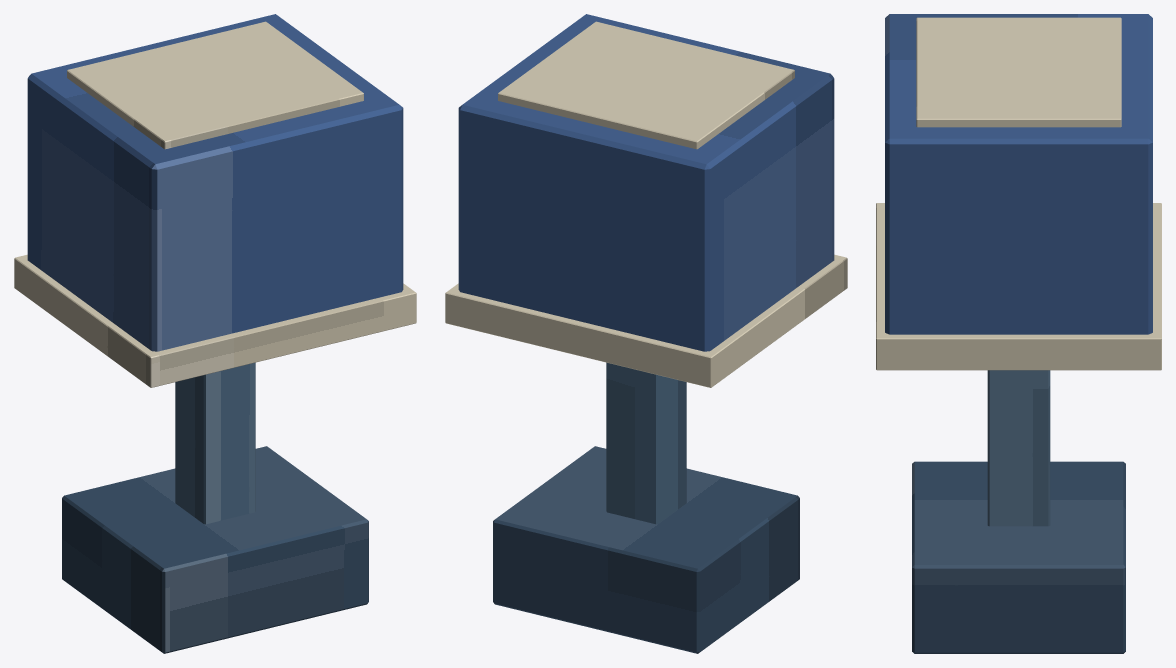
Rendered from bedside_lamp_navy.glb.
3 renders of one model, left to right at view 1: azimuth 30°, elevation 25°; view 2: azimuth 150°, elevation 25°; view 3: azimuth 270°, elevation 25°, orthographic. The views are drawn at different scales.
Parts seen in each view (by area): view 1: LampShade, LampBase, ShadeBandTop, ShadeBandBottom, LampStem; view 2: LampShade, LampBase, ShadeBandTop, ShadeBandBottom, LampStem; view 3: LampShade, LampBase, ShadeBandTop, ShadeBandBottom, LampStem.
Part boxes in pixels (x1=…): LampShade: x1=27, y1=14, x2=403, y2=351; LampBase: x1=62, y1=446, x2=368, y2=653; ShadeBandTop: x1=67, y1=21, x2=363, y2=149; ShadeBandBottom: x1=14, y1=254, x2=416, y2=387; LampStem: x1=175, y1=362, x2=255, y2=524; LampShade: x1=458, y1=14, x2=834, y2=351; LampBase: x1=493, y1=446, x2=799, y2=653; ShadeBandTop: x1=498, y1=21, x2=794, y2=149; ShadeBandBottom: x1=445, y1=254, x2=847, y2=387; LampStem: x1=606, y1=362, x2=686, y2=524; LampShade: x1=885, y1=14, x2=1152, y2=334; LampBase: x1=912, y1=461, x2=1125, y2=653; ShadeBandTop: x1=916, y1=17, x2=1121, y2=127; ShadeBandBottom: x1=876, y1=203, x2=1161, y2=370; LampStem: x1=987, y1=370, x2=1050, y2=526.
Bounding box in the file's own units: 0.36 × 0.66 × 0.32.
Materials: 1 (1 with a texture image).
